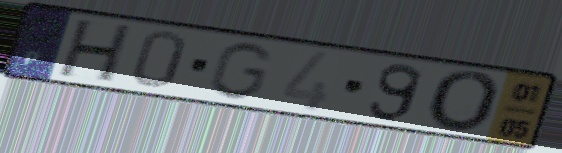0: (127, 29, 189, 91)
4: (278, 48, 333, 114)
9: (365, 62, 423, 123)
G: (204, 40, 277, 102)
H: (53, 18, 137, 86)
O: (424, 68, 505, 136)
